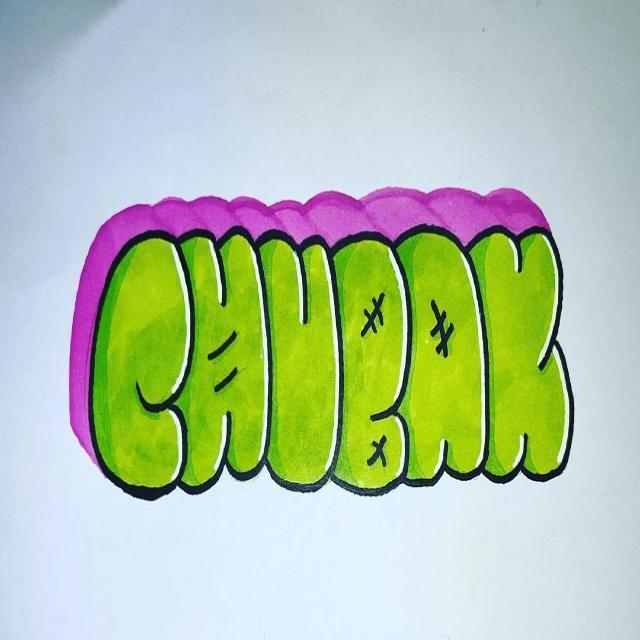-: (47, 131, 583, 534)
